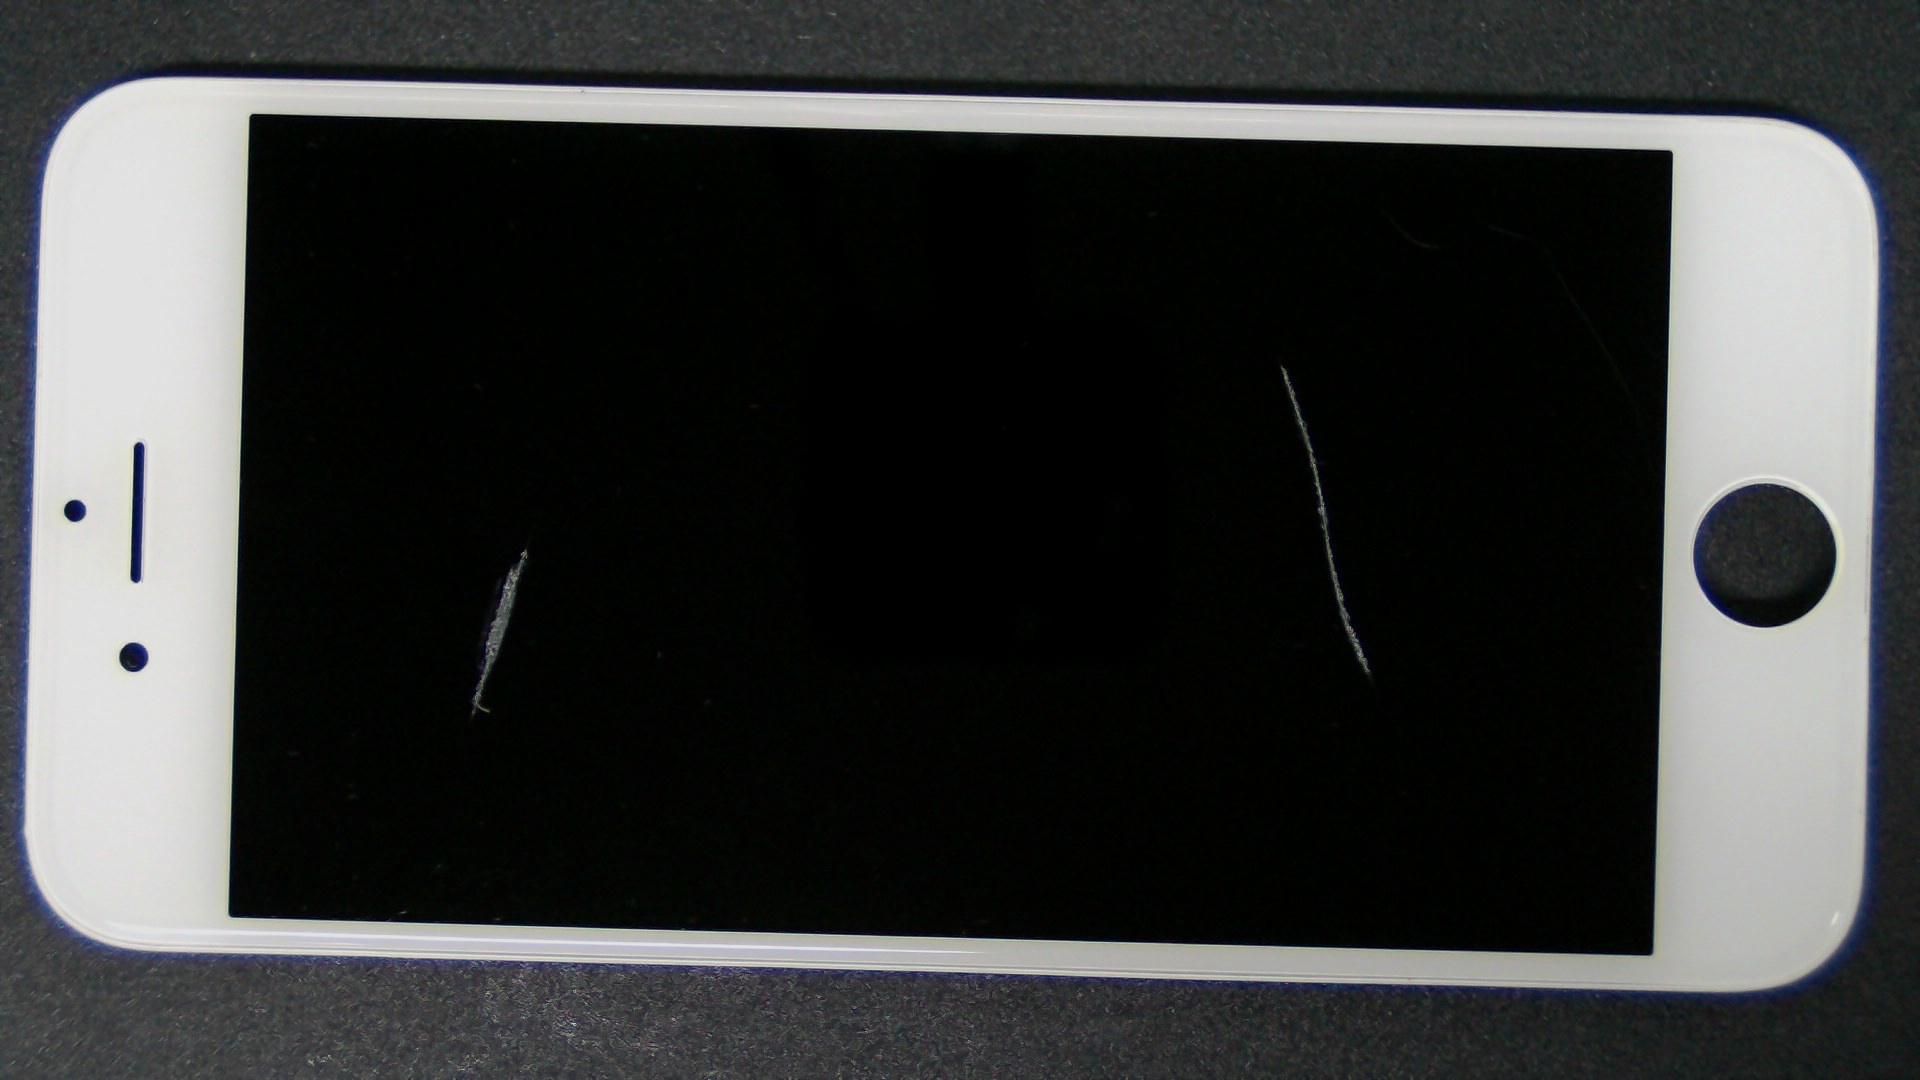oil: (640, 182, 1920, 546), (264, 273, 789, 823)
